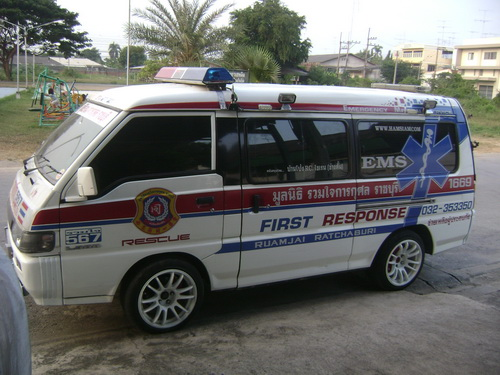van: (3, 76, 478, 331)
